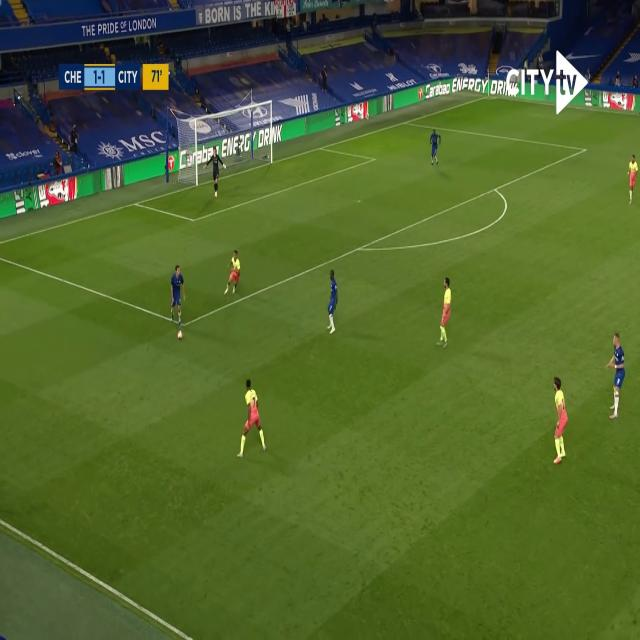ball: (176, 327, 184, 341)
team1: (604, 333, 626, 421), (168, 266, 185, 336), (324, 269, 339, 334), (430, 129, 442, 165)
team2: (238, 380, 268, 460), (550, 379, 569, 466), (439, 278, 453, 352), (225, 252, 242, 296), (628, 154, 638, 206)
